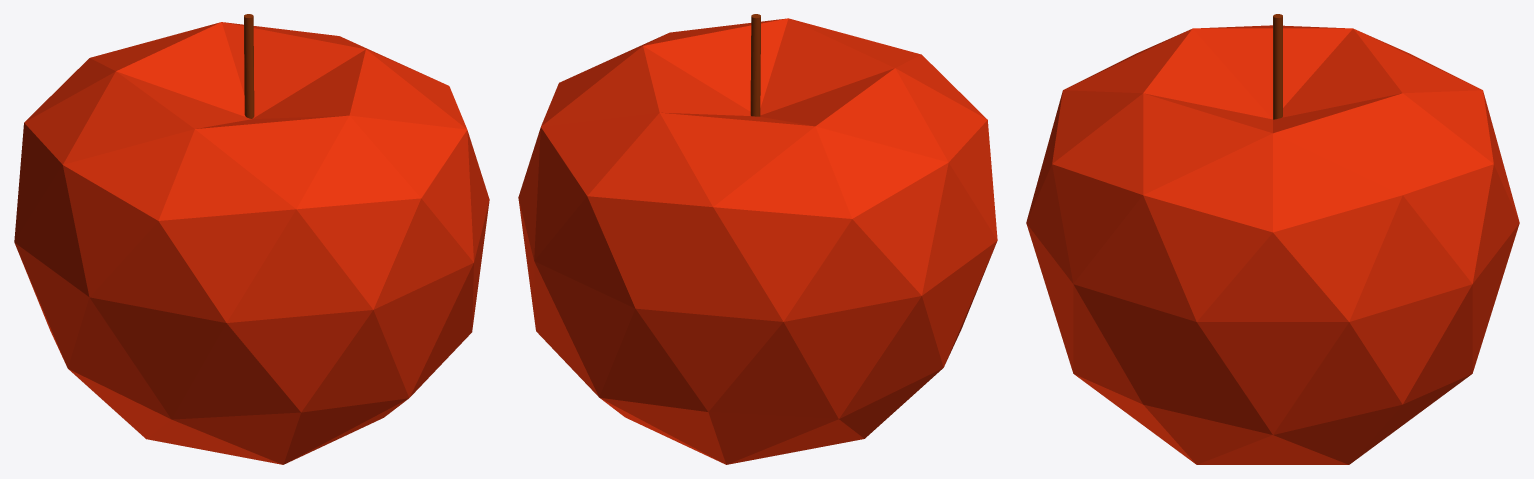
File: apple.glb
3 views of the same model, side by side, from view 1: azimuth 30°, elevation 25°; view 2: azimuth 150°, elevation 25°; view 3: azimuth 270°, elevation 25° (orthographic).
Visible parts, largest first — view 1: Icosphere, Cylinder; view 2: Icosphere, Cylinder; view 3: Icosphere, Cylinder.
Boxes of the visible parts, x1,y1,x2,y2 form: Icosphere: (14,22,489,464); Cylinder: (244,14,254,118); Icosphere: (518,18,997,464); Cylinder: (750,14,760,116); Icosphere: (1026,25,1519,464); Cylinder: (1273,14,1282,119).
Size of the model in its own units: 1.9 by 1.8 by 2.
